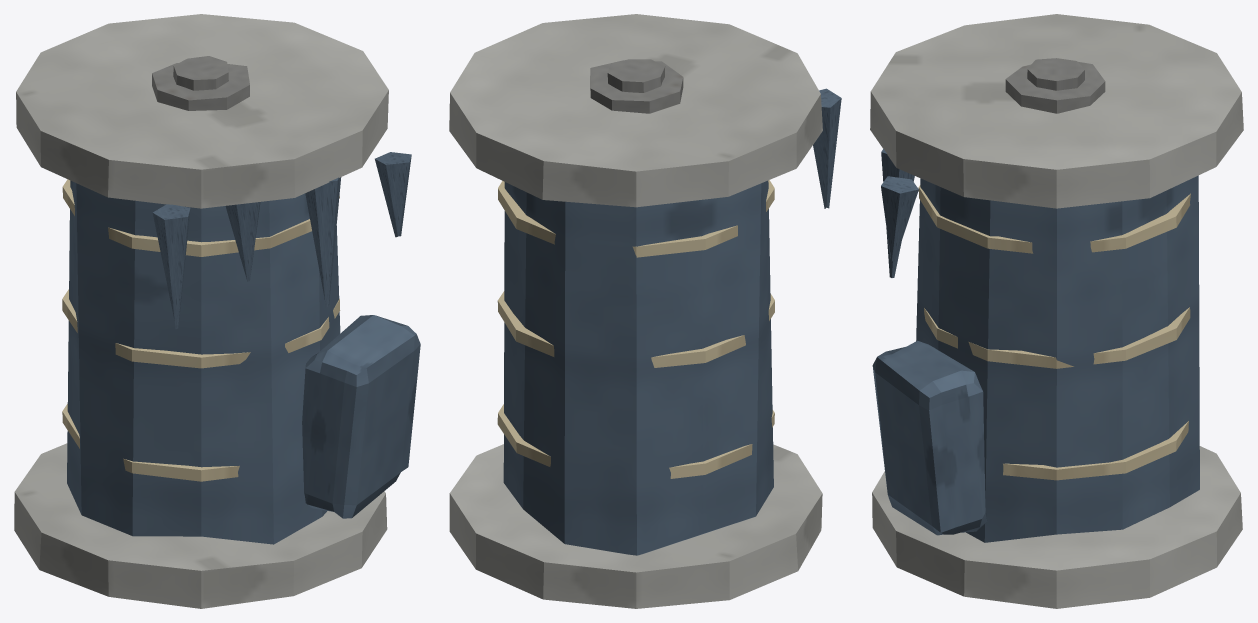
The model's file is frozen_bobbin.glb.
3 renders of one model, left to right at view 1: azimuth 30°, elevation 25°; view 2: azimuth 150°, elevation 25°; view 3: azimuth 270°, elevation 25°, orthographic.
Parts seen in each view (by area): view 1: FrozenBobbin; view 2: FrozenBobbin; view 3: FrozenBobbin.
Boxes of the visible parts, x1,y1,x2,y2 form: FrozenBobbin: (14, 14, 420, 608); FrozenBobbin: (449, 14, 841, 608); FrozenBobbin: (870, 14, 1243, 608).
Size of the model in its own units: 0.2535 by 0.347 by 0.2537.
4 materials, 4 textured.
